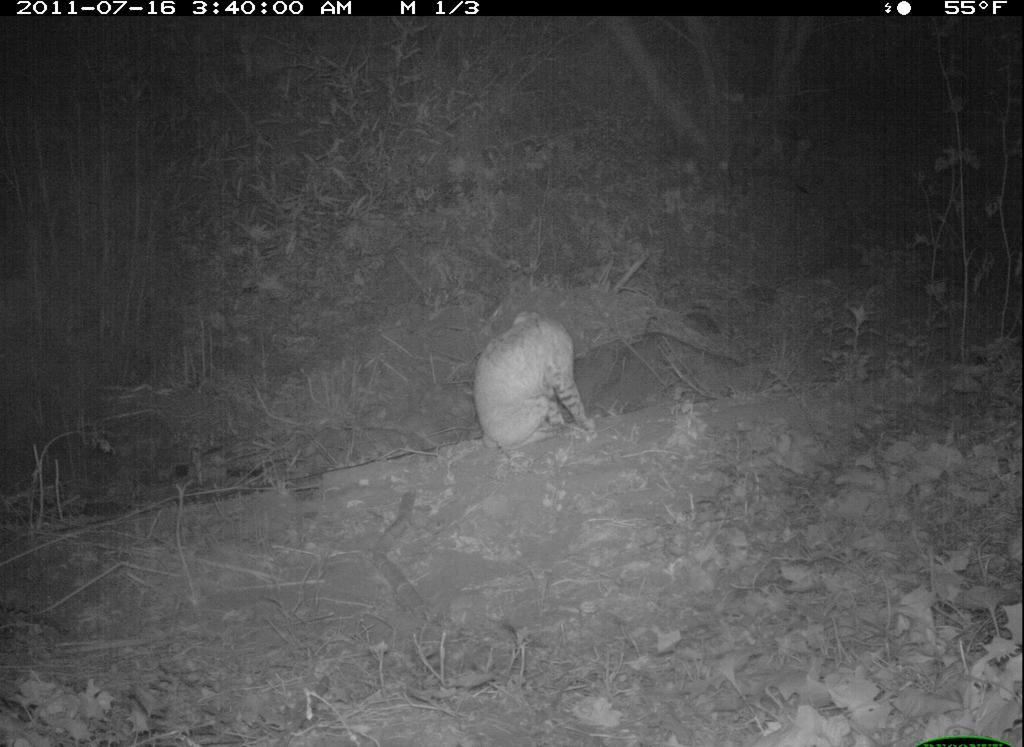bobcat: (472, 308, 597, 454)
